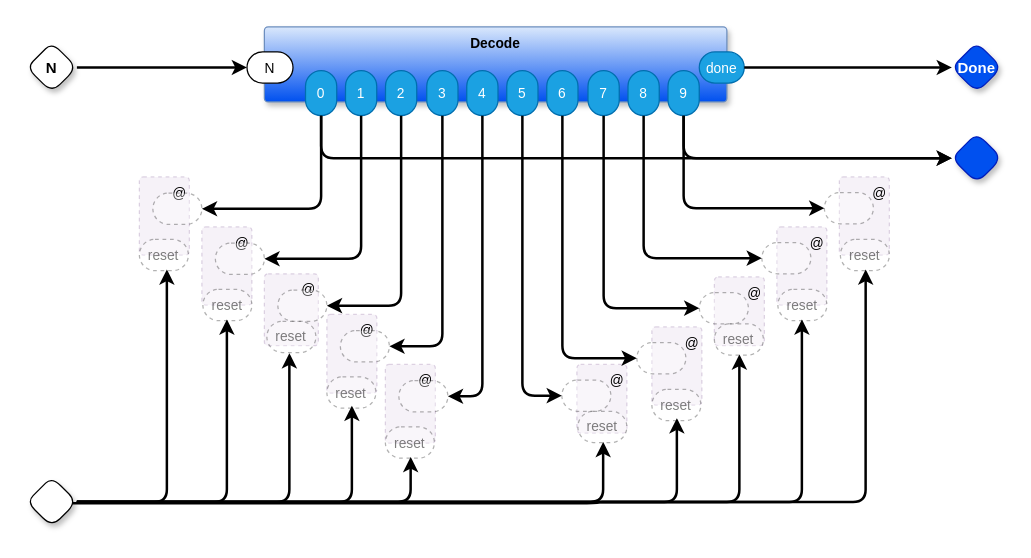
Some shapes in this 1031 by 558 pixel diagram are drawn without their labels. Here are the shapes that lost their labels. From the top down, the centre of each, then its label:
At (x=977, y=159): "MinMac".
At (x=52, y=503): "Disable".
